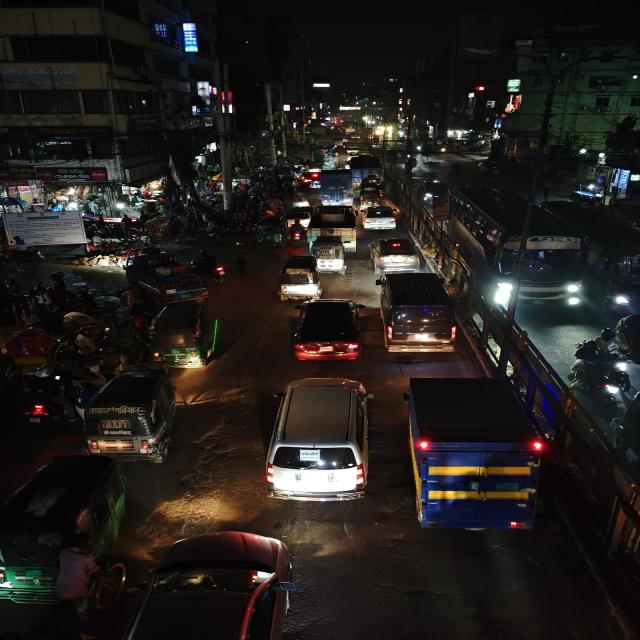bus: (446, 182, 591, 316), (594, 230, 640, 318)
car: (117, 529, 304, 640), (264, 376, 376, 505), (377, 269, 458, 357), (289, 296, 366, 364), (570, 334, 630, 402), (275, 255, 324, 300), (367, 234, 422, 272), (359, 204, 400, 231)
cng: (0, 453, 132, 620), (83, 367, 184, 463), (136, 300, 222, 370), (312, 234, 348, 274), (254, 216, 286, 246), (420, 179, 447, 203), (476, 159, 501, 176)
motorcycle: (17, 383, 54, 429), (192, 249, 229, 283), (287, 223, 307, 245)
pedestrian: (233, 247, 251, 275)
pickup_van: (127, 260, 210, 302), (309, 204, 359, 253)
rickshaw: (1, 328, 63, 381), (64, 308, 115, 344), (143, 215, 189, 247), (311, 234, 347, 274)
truck: (401, 375, 544, 538), (317, 170, 356, 205)
